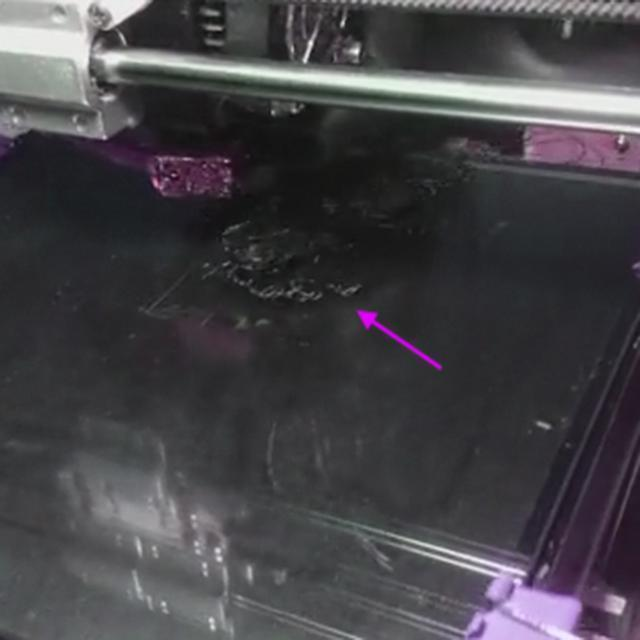spaghetti: (204, 262, 368, 308)
